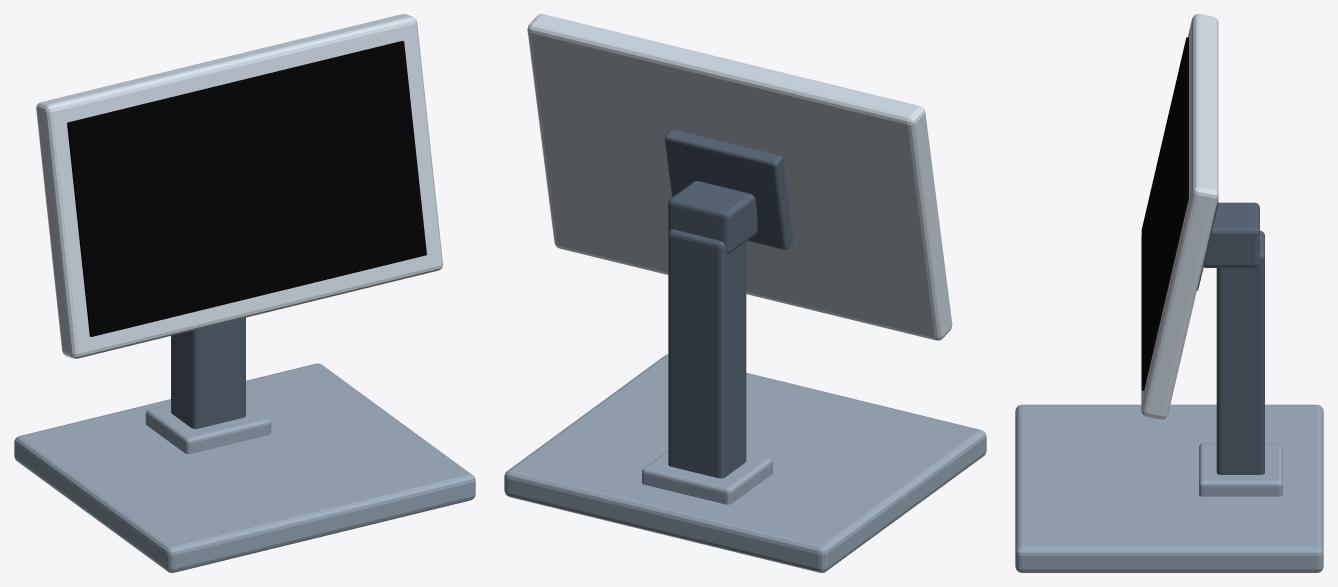
Rendered from asset.fbx.
The picture shows the model from 3 angles, left to right: view 1: azimuth 30°, elevation 25°; view 2: azimuth 150°, elevation 25°; view 3: azimuth 270°, elevation 25°; orthographic projection. The views are drawn at different scales.
Parts seen in each view (by area): view 1: radcare_chart_tablet_tablet_black_screen, radcare_chart_tablet_wide_base_plate, radcare_chart_tablet_tablet_white_body, radcare_chart_tablet_support_column, radcare_chart_tablet_column_base_collar; view 2: radcare_chart_tablet_tablet_white_body, radcare_chart_tablet_wide_base_plate, radcare_chart_tablet_support_column, radcare_chart_tablet_rear_mount_plate, radcare_chart_tablet_fixed_mount_neck, radcare_chart_tablet_column_base_collar; view 3: radcare_chart_tablet_wide_base_plate, radcare_chart_tablet_tablet_white_body, radcare_chart_tablet_support_column, radcare_chart_tablet_tablet_black_screen, radcare_chart_tablet_fixed_mount_neck, radcare_chart_tablet_column_base_collar.
Part boxes in pixels (box(x1,y1,x2,y2)): radcare_chart_tablet_tablet_black_screen: box(67, 41, 426, 336); radcare_chart_tablet_wide_base_plate: box(14, 363, 475, 572); radcare_chart_tablet_tablet_white_body: box(36, 14, 442, 358); radcare_chart_tablet_support_column: box(171, 317, 245, 428); radcare_chart_tablet_column_base_collar: box(145, 402, 271, 454); radcare_chart_tablet_tablet_white_body: box(527, 14, 952, 340); radcare_chart_tablet_wide_base_plate: box(504, 354, 986, 572); radcare_chart_tablet_support_column: box(668, 229, 746, 478); radcare_chart_tablet_rear_mount_plate: box(664, 129, 793, 249); radcare_chart_tablet_fixed_mount_neck: box(668, 181, 757, 254); radcare_chart_tablet_column_base_collar: box(642, 451, 772, 504); radcare_chart_tablet_wide_base_plate: box(1015, 404, 1323, 572); radcare_chart_tablet_tablet_white_body: box(1141, 14, 1218, 419); radcare_chart_tablet_support_column: box(1216, 230, 1264, 474); radcare_chart_tablet_tablet_black_screen: box(1141, 37, 1188, 390); radcare_chart_tablet_fixed_mount_neck: box(1203, 202, 1259, 267); radcare_chart_tablet_column_base_collar: box(1199, 443, 1282, 496).
Size of the model in its own units: 0.3 by 0.32 by 0.22.
